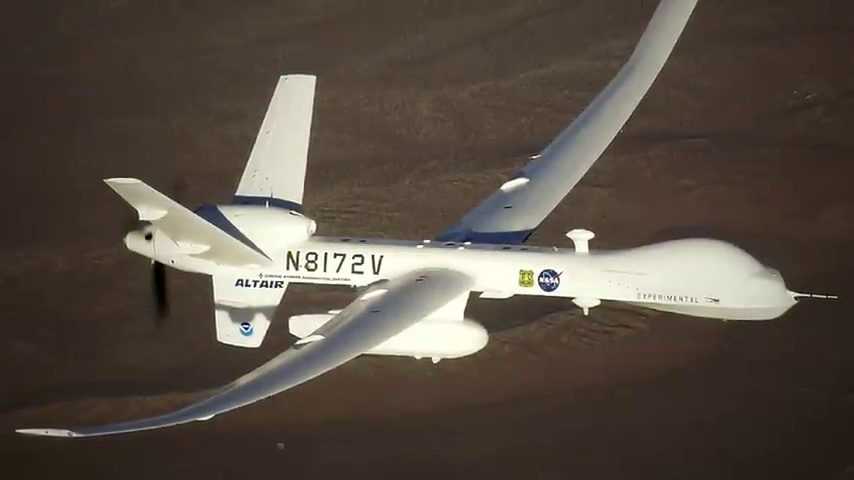military drone: (15, 0, 838, 438)
